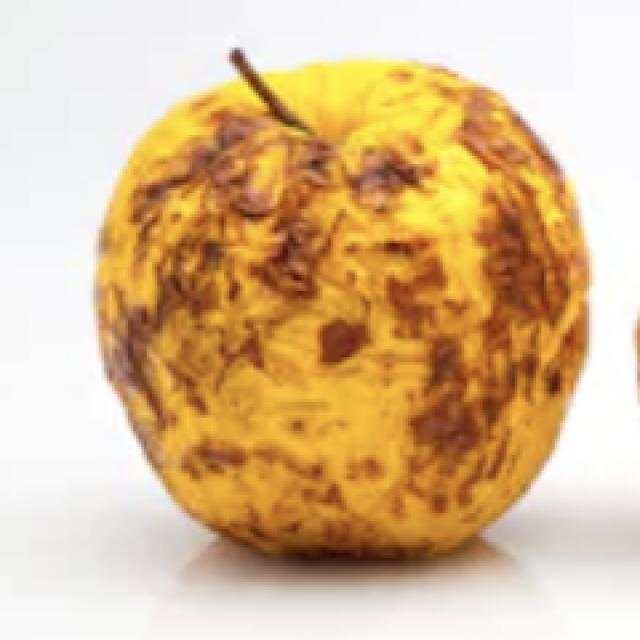Rotten: (92, 57, 590, 560)
